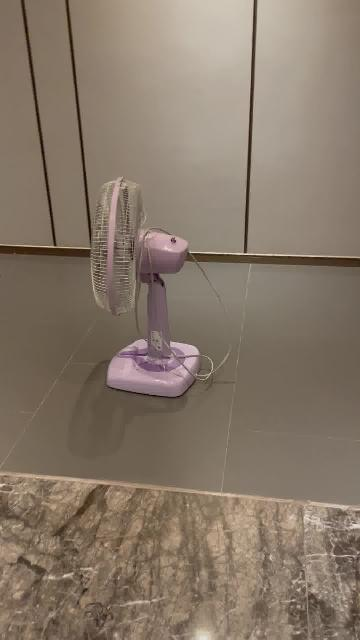Fan: (90, 177, 200, 398)
